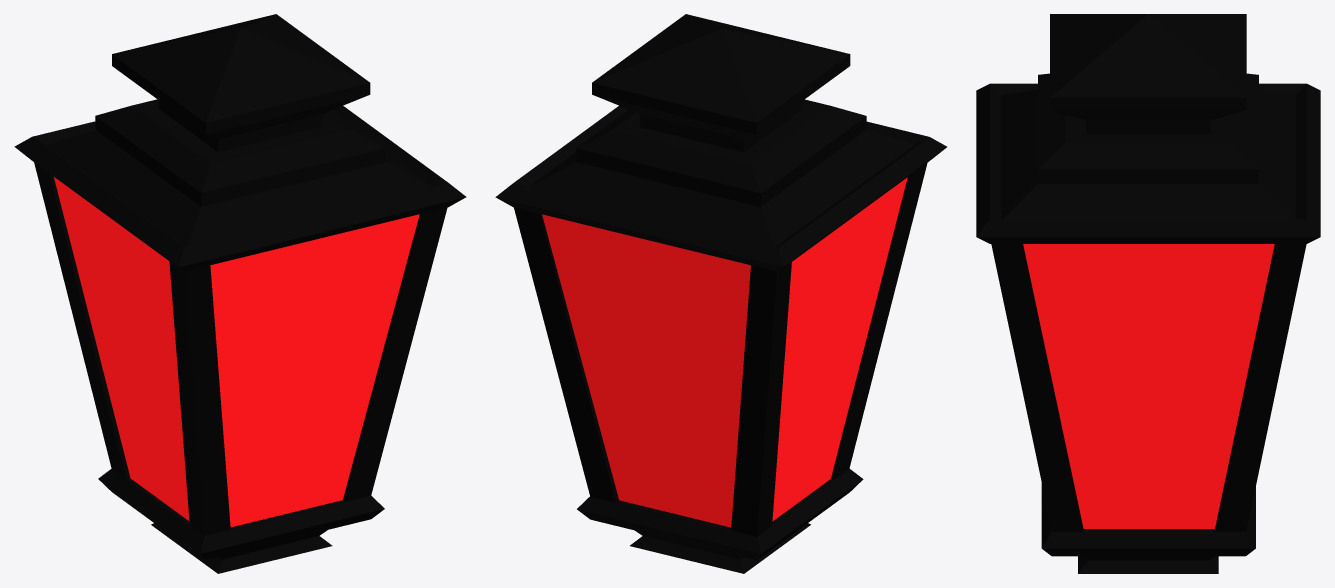
Rendered from alarm_red.glb.
The picture shows the model from 3 angles, left to right: view 1: azimuth 30°, elevation 25°; view 2: azimuth 150°, elevation 25°; view 3: azimuth 270°, elevation 25°; orthographic projection. The views are drawn at different scales.
Parts seen in each view (by area): view 1: Torus.001; view 2: Torus.001; view 3: Torus.001.
Part boxes in pixels (bbox=[...]): Torus.001: bbox=[14, 14, 466, 573]; Torus.001: bbox=[495, 14, 946, 573]; Torus.001: bbox=[976, 14, 1320, 573].
Bounding box in the file's own units: 2.21 × 3.93 × 2.19.
